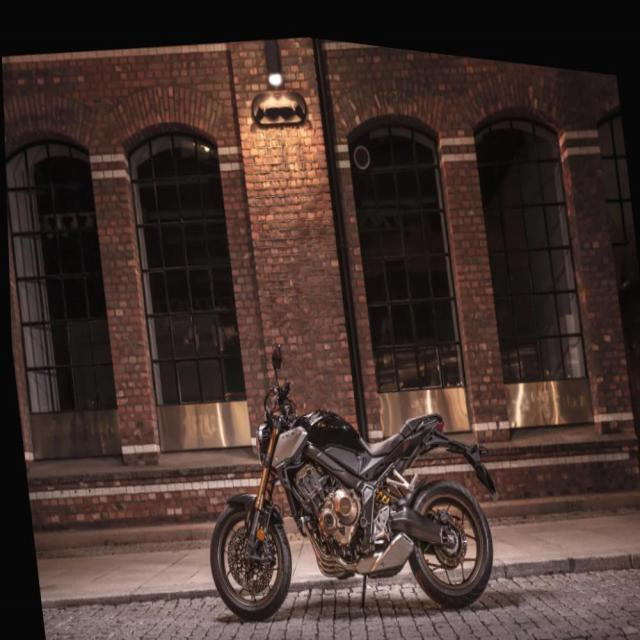CB650R: (186, 349, 498, 639)
